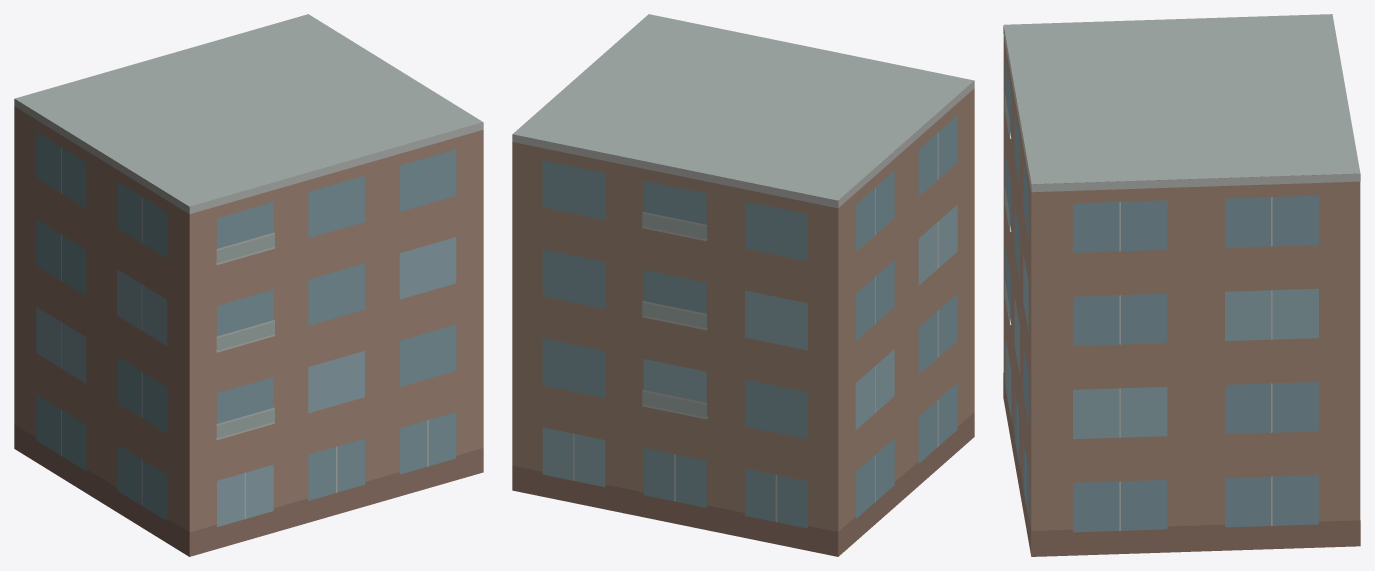
The model's file is survey-upis-32531204.glb.
The picture shows the model from 3 angles, left to right: view 1: azimuth 30°, elevation 25°; view 2: azimuth 150°, elevation 25°; view 3: azimuth 270°, elevation 25°; orthographic projection. The views are drawn at different scales.
Visible parts, largest first — view 1: survey-upis-32531204.tmp; view 2: survey-upis-32531204.tmp; view 3: survey-upis-32531204.tmp.
Part boxes in pixels (left/top/right/bottom): survey-upis-32531204.tmp: left=14, top=14, right=483, bottom=556; survey-upis-32531204.tmp: left=512, top=14, right=974, bottom=556; survey-upis-32531204.tmp: left=1003, top=14, right=1360, bottom=556.
Bounding box in the file's own units: 11.08 × 11.3 × 9.82.
